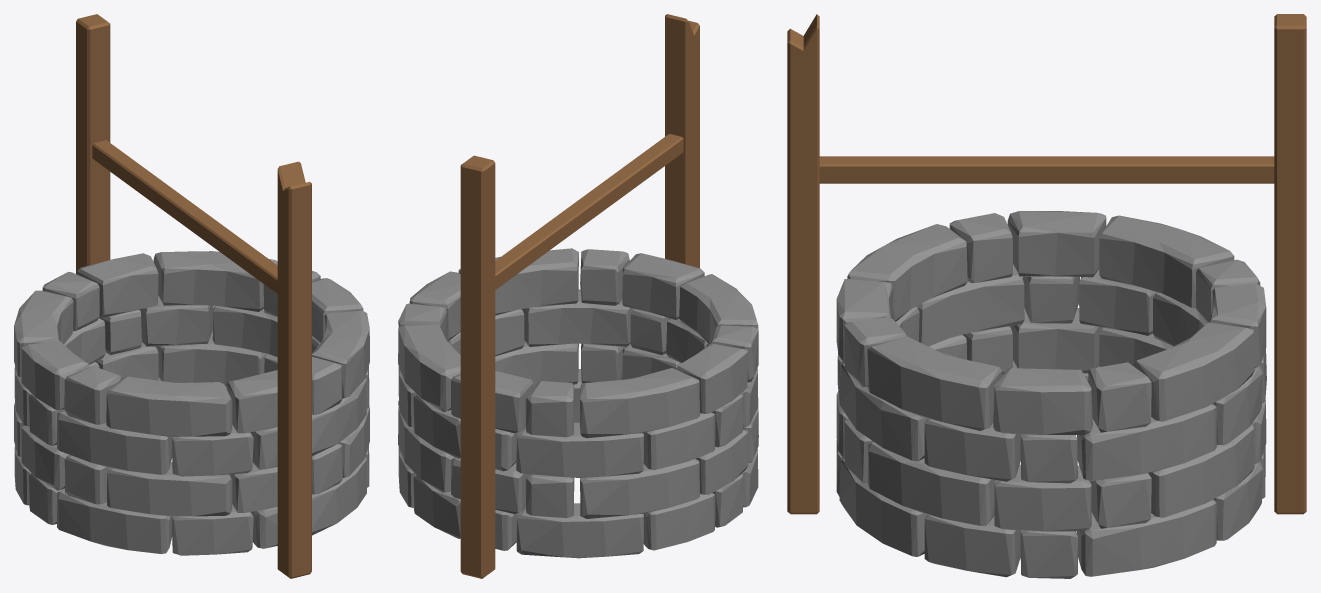
Rendered from Well.dae.
3 renders of one model, left to right at view 1: azimuth 30°, elevation 25°; view 2: azimuth 150°, elevation 25°; view 3: azimuth 270°, elevation 25°, orthographic. The views are drawn at different scales.
Visible parts, largest first — view 1: Cube.001; view 2: Cube.001; view 3: Cube.001.
Boxes of the visible parts, <box> form: Cube.001: <box>14,14,369,578</box>; Cube.001: <box>398,14,758,578</box>; Cube.001: <box>787,14,1306,578</box>.
Bounding box in the file's own units: 15.73 × 19.02 × 19.76.
Materials: 1 (1 with a texture image).
